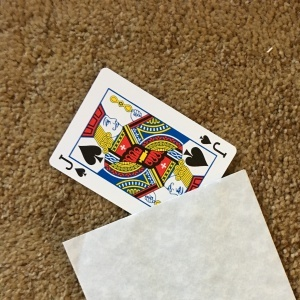card: (45, 67, 238, 216)
